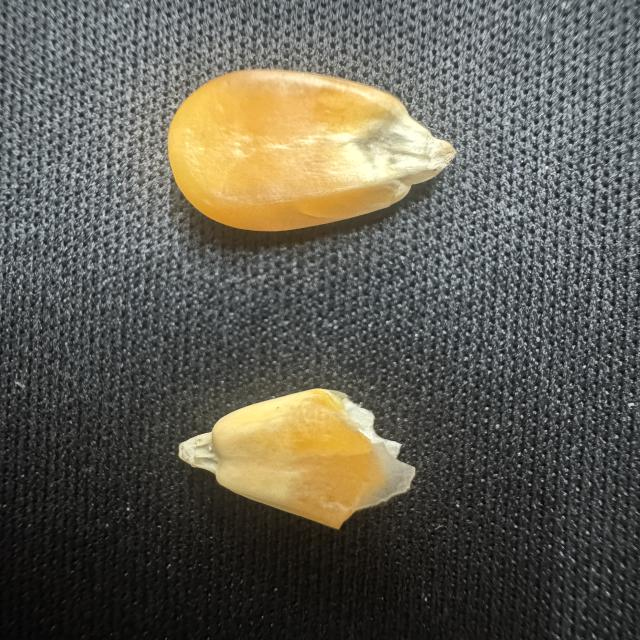Bad-Seed: (166, 381, 424, 536)
Good-Seed: (159, 65, 463, 236)
